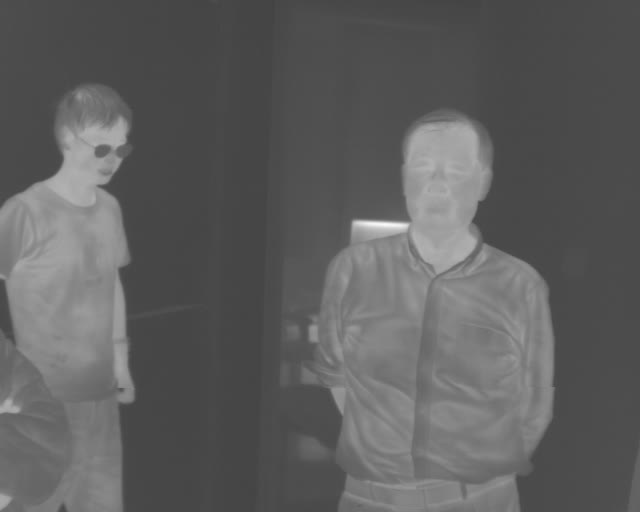face: (399, 106, 494, 241), (53, 79, 132, 187)
